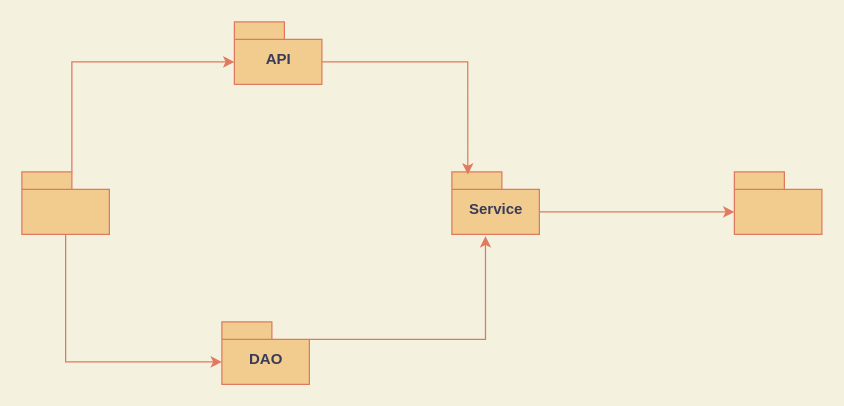
Image size: 844x406. Some labels were removed from this diagram. The centre of each missing label's shape, as x and y in pixels:
"Métier" goes at pixel 65 202.
"View" goes at pixel 777 202.
